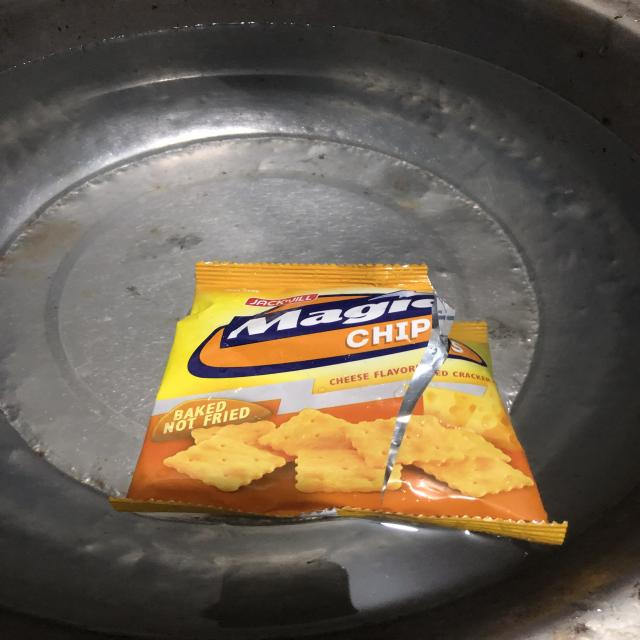Plastic Wrapper: (96, 249, 588, 568)
